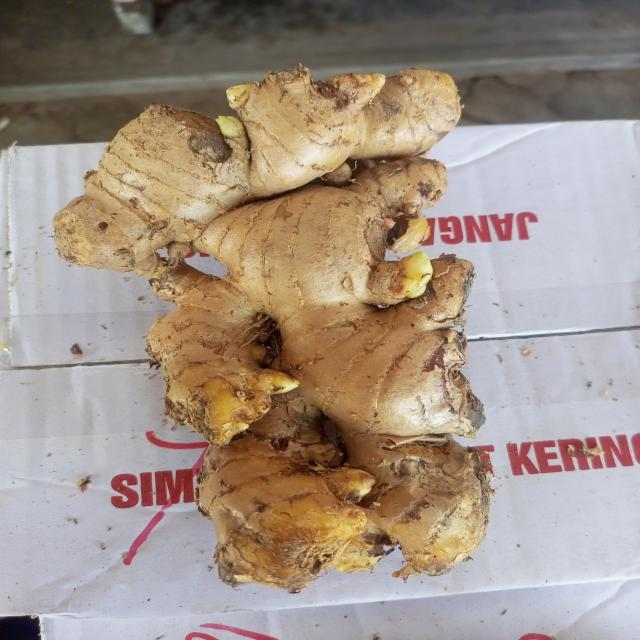ginger: (83, 69, 496, 585)
